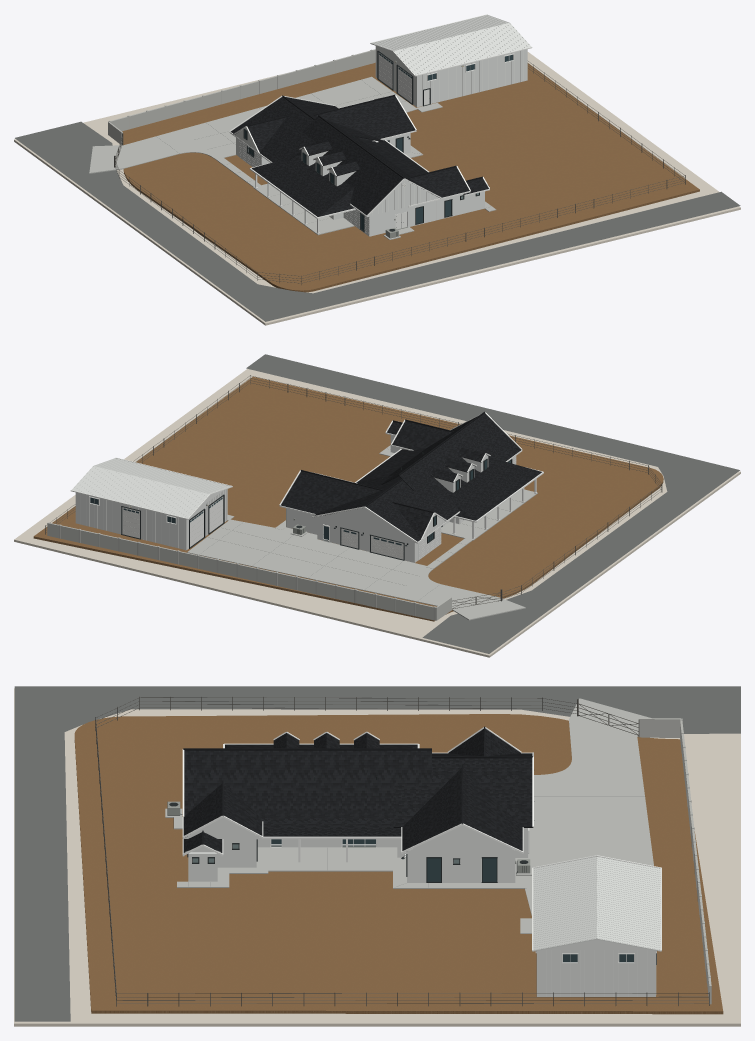
The model's file is farm-house.glb.
3 views of the same model, one above another, from view 1: azimuth 30°, elevation 25°; view 2: azimuth 150°, elevation 25°; view 3: azimuth 270°, elevation 25° (orthographic). The views are drawn at different scales.
Visible parts, largest first — view 1: Site soil, Display foundation, Site approach one, Site approach two, Concrete driveway and garage apron, Detached barn shell, Detached barn south roof, Northern masonry wall, Main high roof west plane, West porch main plane, Northeast cross gable south plane, North roof west plane (+8 smaller); view 2: Site soil, Display foundation, Concrete driveway and garage apron, Site approach one, Site approach two, Northern masonry wall, Detached barn north roof, Detached barn shell, Main high roof west plane, West porch main plane, North roof west plane, Northeast cross gable north plane (+10 smaller); view 3: Site soil, Display foundation, Site approach one, Site approach two, Concrete driveway and garage apron, Main high roof east plane, Detached barn shell, Detached barn south roof, Detached barn north roof, North roof east plane, East patio shed, East patio slab (+22 smaller).
Boxes of the visible parts, box(x1,y1,x2,y2) form: Site soil: box(122, 62, 699, 292); Display foundation: box(14, 52, 740, 325); Site approach one: box(15, 121, 312, 321); Site approach two: box(249, 191, 740, 321); Concrete driveway and garage apron: box(89, 76, 417, 173); Detached barn shell: box(375, 46, 527, 107); Detached barn south roof: box(394, 23, 531, 74); Northern masonry wall: box(108, 49, 375, 131); Main high roof west plane: box(295, 116, 402, 215); West porch main plane: box(252, 154, 353, 216); Northeast cross gable south plane: box(315, 96, 414, 140); North roof west plane: box(231, 97, 315, 162); Site soil: box(33, 376, 663, 621); Display foundation: box(14, 369, 740, 657); Concrete driveway and garage apron: box(187, 519, 525, 620); Site approach one: box(422, 467, 722, 653); Site approach two: box(246, 354, 739, 482); Northern masonry wall: box(47, 522, 436, 620); Detached barn north roof: box(72, 466, 208, 518); Detached barn shell: box(75, 489, 227, 550); Main high roof west plane: box(399, 413, 520, 491); West porch main plane: box(441, 457, 541, 520); North roof west plane: box(366, 480, 459, 541); Northeast cross gable north plane: box(280, 471, 380, 514); Site soil: box(74, 714, 723, 1014); Display foundation: box(14, 688, 740, 1026); Site approach one: box(63, 686, 740, 733); Site approach two: box(14, 686, 70, 1021); Concrete driveway and garage apron: box(515, 698, 653, 915); Main high roof east plane: box(184, 750, 431, 815); Detached barn shell: box(536, 949, 655, 996); Detached barn south roof: box(532, 856, 596, 951); Detached barn north roof: box(596, 857, 661, 951); North roof east plane: box(393, 758, 532, 827); East patio shed: box(256, 810, 401, 836); East patio slab: box(255, 847, 406, 871).
Size of the model in its own units: 77.29 by 8.79 by 70.78.
17 materials, 2 textured.
